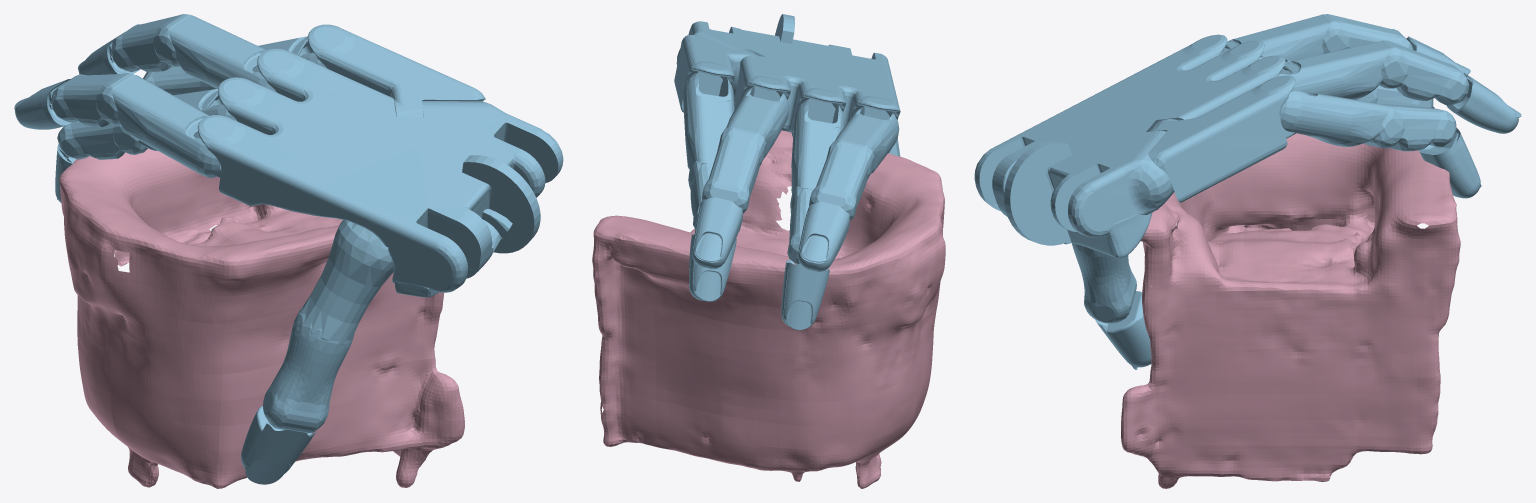
3 renders of one model, left to right at view 1: azimuth 30°, elevation 25°; view 2: azimuth 150°, elevation 25°; view 3: azimuth 270°, elevation 25°, orthographic. The views are drawn at different scales.
Parts seen in each view (by area): view 1: hand_isaac_q, world; view 2: world, hand_isaac_q; view 3: world, hand_isaac_q.
Boxes of the visible parts, <box> form: hand_isaac_q: <box>14,14,563,484</box>; world: <box>59,148,464,488</box>; world: <box>592,130,945,488</box>; hand_isaac_q: <box>674,14,900,330</box>; world: <box>1121,133,1460,488</box>; hand_isaac_q: <box>974,14,1521,369</box>.
Bounding box in the file's own units: 0.1545 × 0.1653 × 0.2046.
